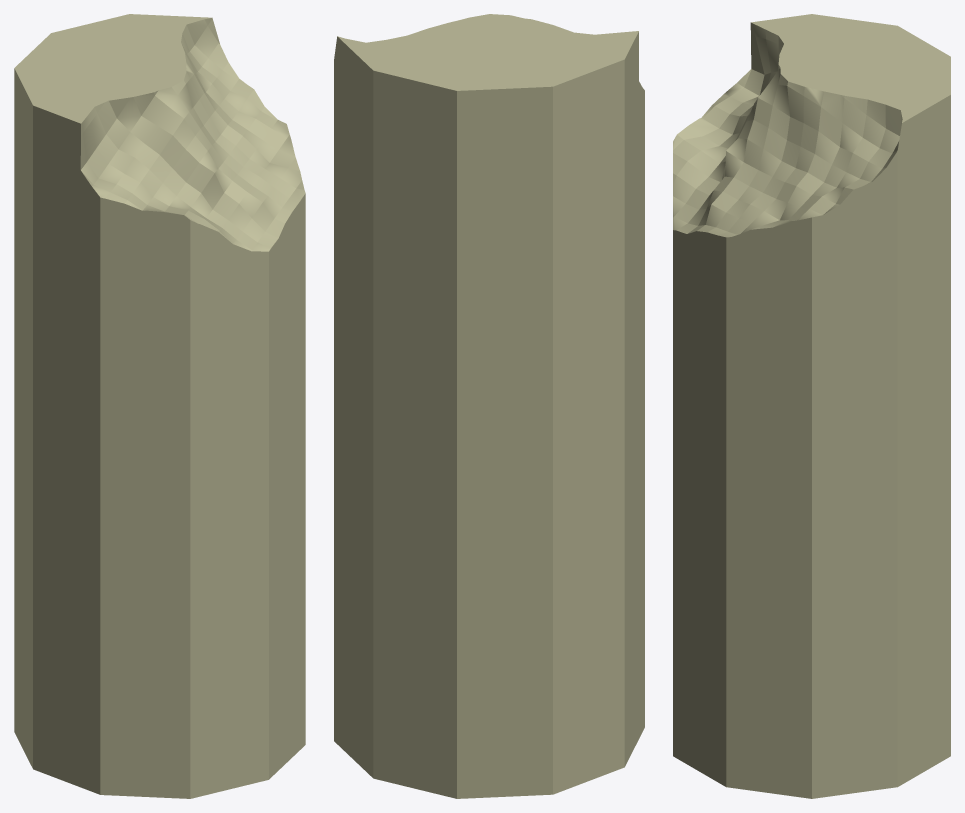
File: M_Column_D11_1.fbx
3 renders of one model, left to right at view 1: azimuth 30°, elevation 25°; view 2: azimuth 150°, elevation 25°; view 3: azimuth 270°, elevation 25°, orthographic. The views are drawn at different scales.
Visible parts, largest first — view 1: M_Column_D11_2; view 2: M_Column_D11_2; view 3: M_Column_D11_2.
Part boxes in pixels (x1,y1,x2,y2): M_Column_D11_2: (14, 14, 305, 798); M_Column_D11_2: (334, 14, 644, 798); M_Column_D11_2: (673, 14, 950, 798).
Size of the model in its own units: 1.6 by 4 by 1.52.
